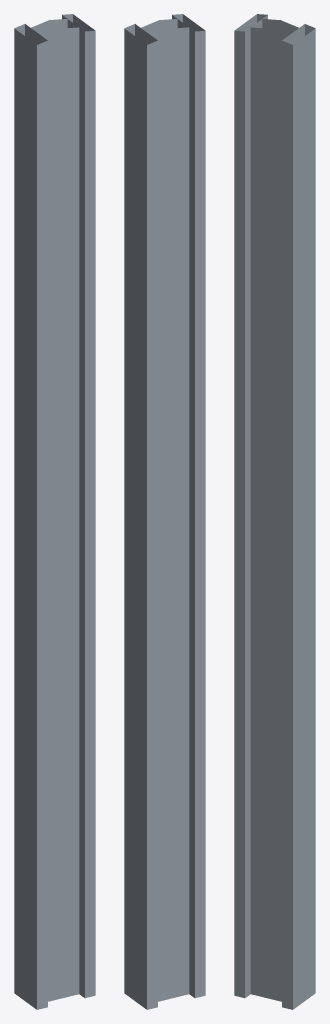
The model's file is SM06_Building_Structure_Column_Gable_Top_03.fbx.
3 views of the same model, side by side, from view 1: azimuth 30°, elevation 25°; view 2: azimuth 210°, elevation 25°; view 3: azimuth 330°, elevation 25° (orthographic).
Parts seen in each view (by area): view 1: SM06_Building_Structure_Column_Gable_Top_03; view 2: SM06_Building_Structure_Column_Gable_Top_03; view 3: SM06_Building_Structure_Column_Gable_Top_03.
Boxes of the visible parts, box(x1,y1,x2,y2) form: SM06_Building_Structure_Column_Gable_Top_03: box(14, 14, 95, 1009); SM06_Building_Structure_Column_Gable_Top_03: box(124, 14, 205, 1009); SM06_Building_Structure_Column_Gable_Top_03: box(234, 14, 315, 1009).
Size of the model in its own units: 0.59 by 9.32 by 0.3976.
